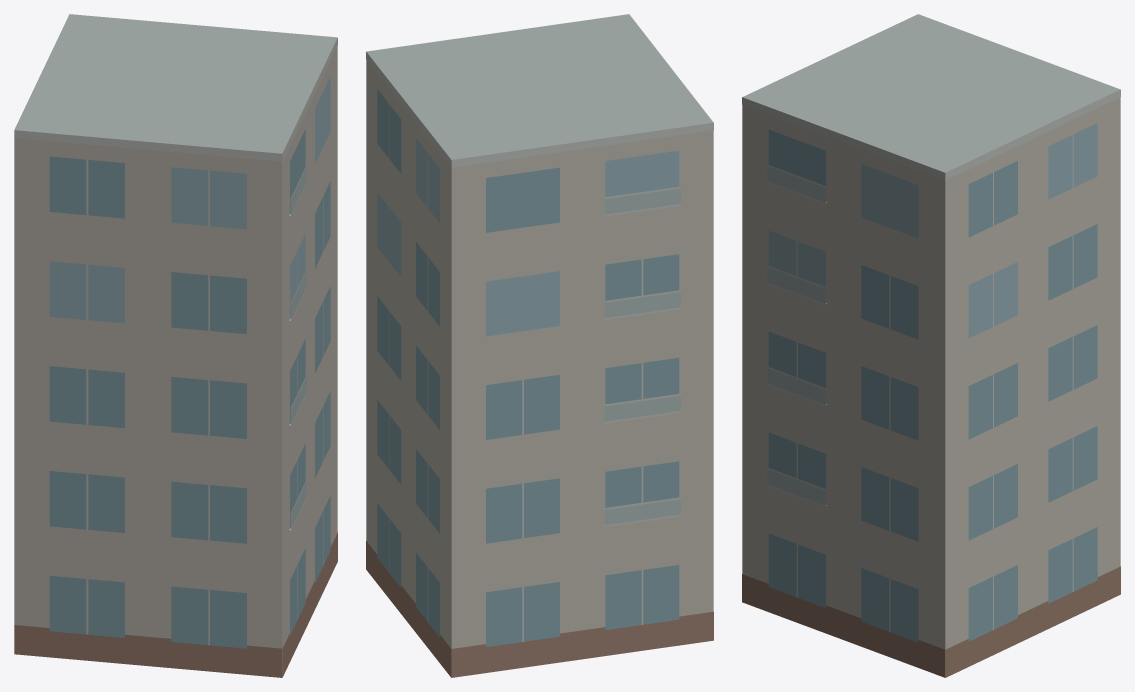
Rendered from survey-upis-32533399.glb.
The picture shows the model from 3 angles, left to right: view 1: azimuth 30°, elevation 25°; view 2: azimuth 150°, elevation 25°; view 3: azimuth 270°, elevation 25°; orthographic projection. The views are drawn at different scales.
Parts seen in each view (by area): view 1: survey-upis-32533399.tmp; view 2: survey-upis-32533399.tmp; view 3: survey-upis-32533399.tmp.
Part boxes in pixels (left/top/right/bottom): survey-upis-32533399.tmp: left=14, top=14, right=337, bottom=677; survey-upis-32533399.tmp: left=366, top=14, right=713, bottom=677; survey-upis-32533399.tmp: left=742, top=14, right=1120, bottom=677.
Size of the model in its own units: 10.9 by 16.15 by 10.98.
